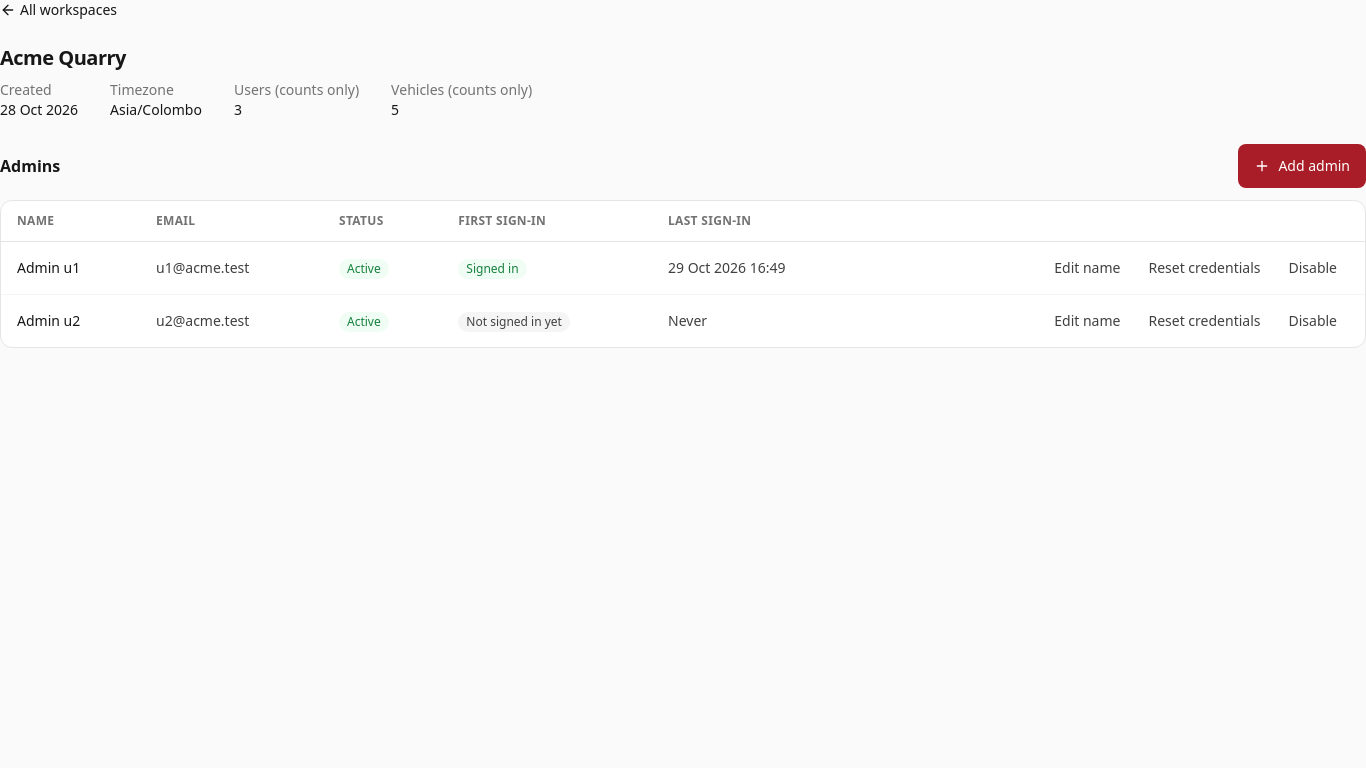
Test: Workspace detail page › disabling the last active admin shows the server message and keeps the dialog open
Step 1. Click the button with aria-label "Disable: Admin u1" → (1313, 268), box [1276,250,1349,286]
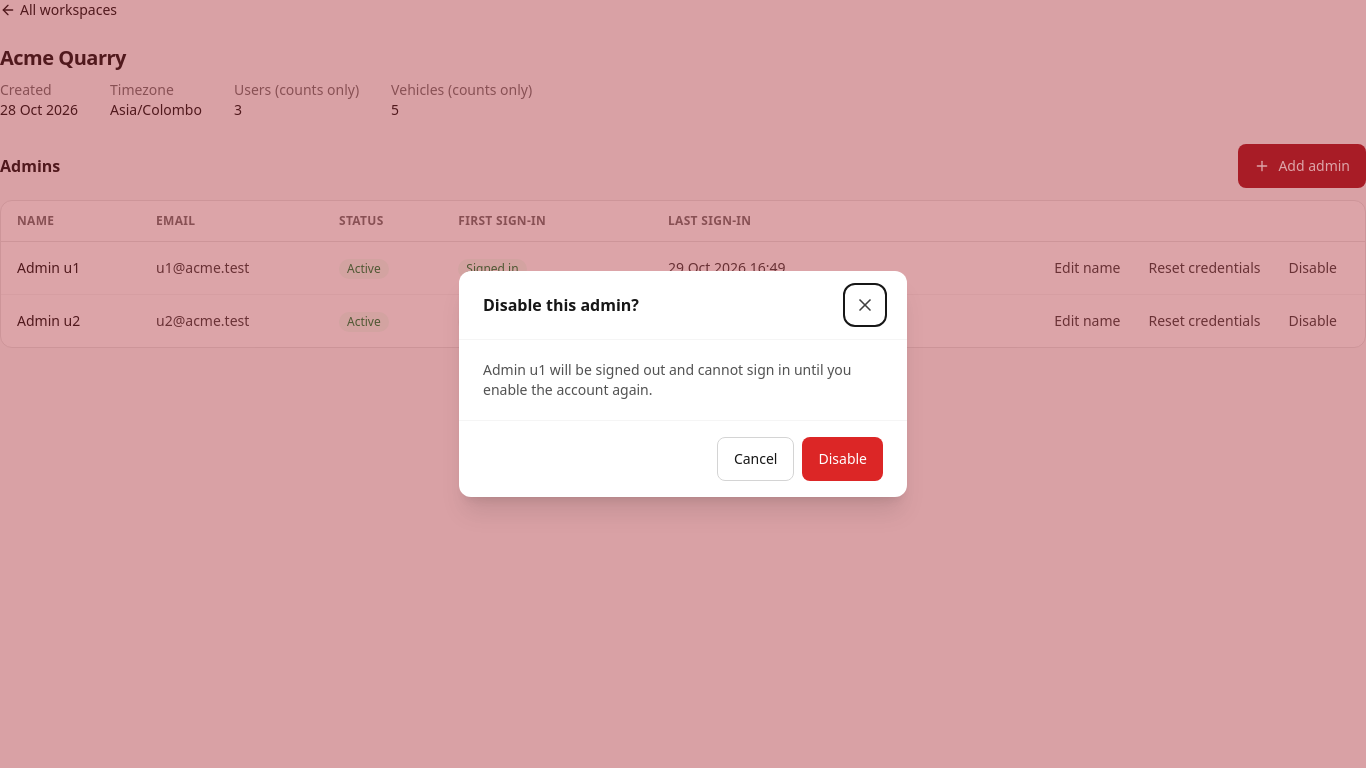
Step 2. Click the button "Disable" → (843, 459), box [802,437,883,481]
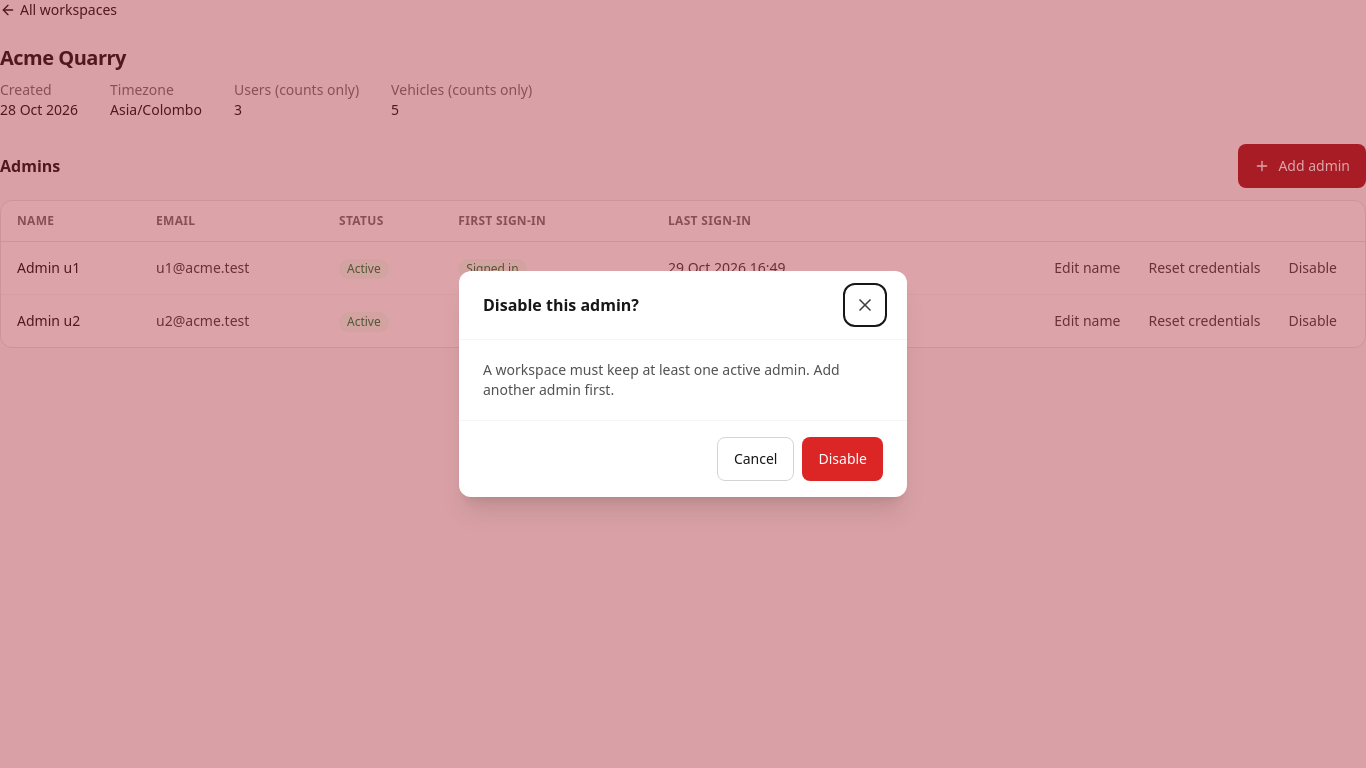
Check: the dialog is shown, box [459,271,907,497]
Check: the text "A workspace must keep at least one active admin. Add another admin first." is shown, box [483,360,883,400]
